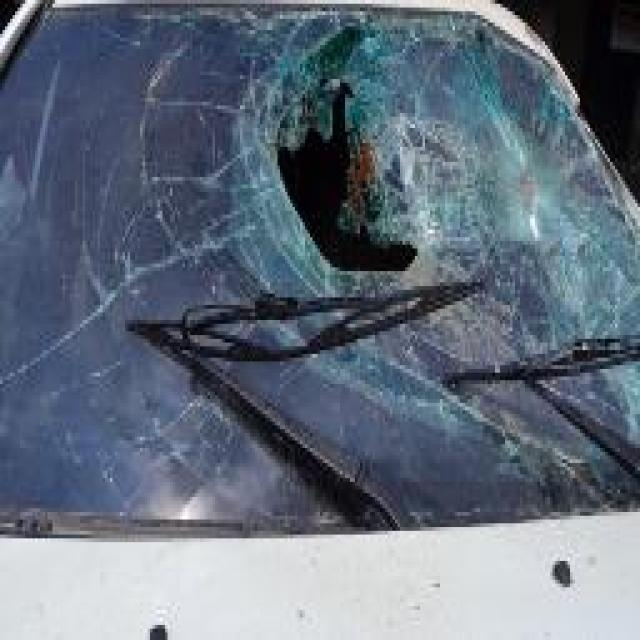Windshield: (28, 8, 640, 512)
